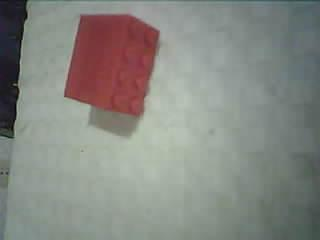lego: (63, 11, 160, 116)
